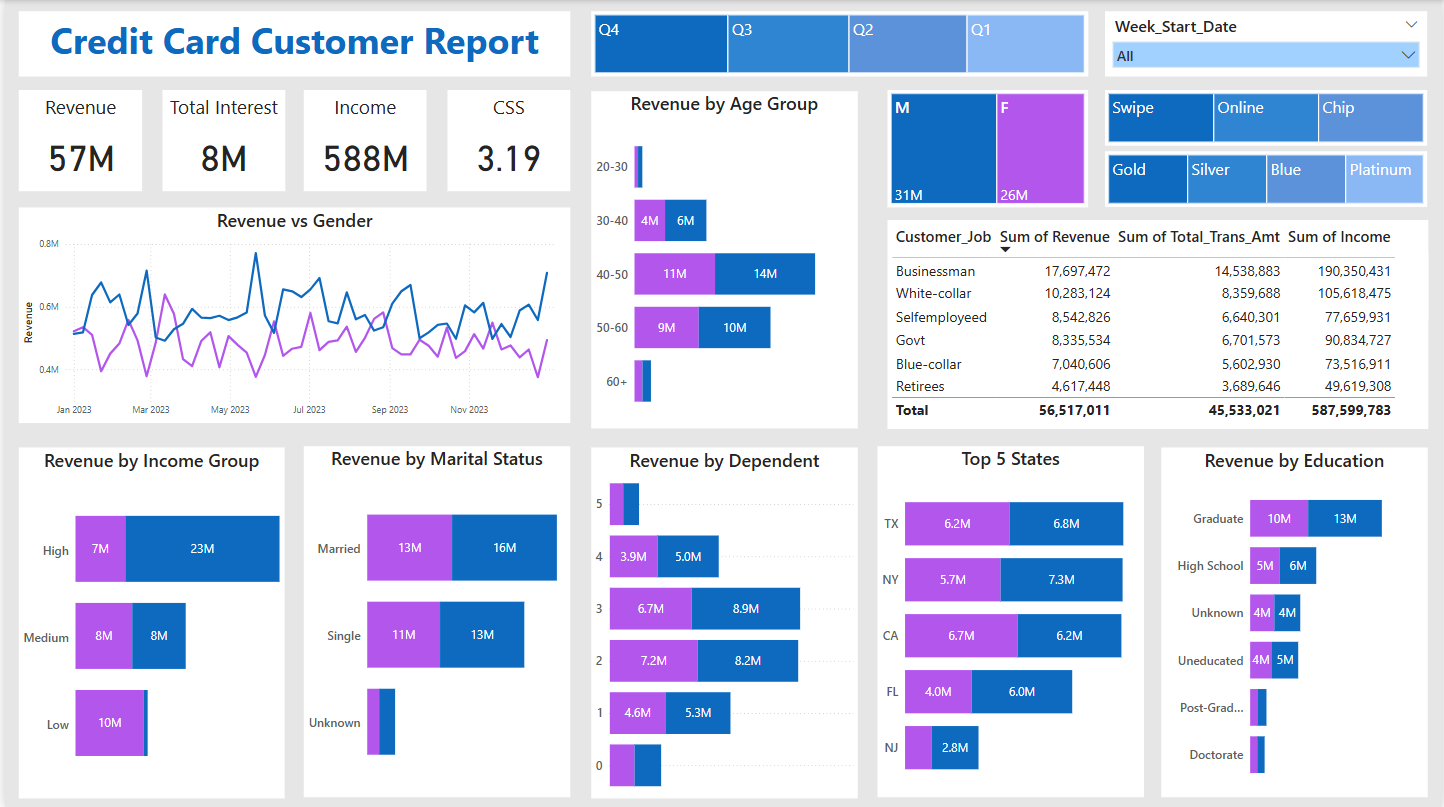

Layout of this report page (visuals, bound fields, positions):
{"tool":"powerbi","page":{"name":"CC Customer","canvas":[1920,1080],"ordinal":2},"visuals":[{"type":"textbox","box":[18.2,14.6,736.8,87.5],"z":0},{"type":"barChart","title":"Revenue by Income Group","fields":{"Y":["Sum(public cc_detail.Revenue)"],"Category":["public cust_detail.IncomeGroup"],"Series":["public cust_detail.gender"]},"box":[18.2,598.2,355,468.7],"z":1000},{"type":"cardVisual","title":"Revenue","fields":{"Data":["Sum(public cc_detail.Revenue)"]},"box":[18.2,120.4,165,135],"z":2000},{"type":"cardVisual","title":"Income","fields":{"Data":["Sum(public cust_detail.income)"]},"box":[399.4,120.4,164.1,135],"z":3000},{"type":"cardVisual","title":"Total Interest","fields":{"Data":["Sum(public cc_detail.interest_earned)"]},"box":[209.7,120.4,164.1,135],"z":4000},{"type":"cardVisual","title":"CSS","fields":{"Data":["Avg(public cust_detail.cust_satisfaction_score)"]},"box":[590.9,120.4,164.1,135],"z":5000},{"type":"slicer","fields":{"Values":["public cc_detail.week_start_date"]},"box":[1469.9,14.6,430.4,87.5],"z":6000},{"type":"treemap","fields":{"Group":["public cc_detail.qtr"],"Values":["Avg(public cc_detail.client_num)"]},"box":[782.4,14.6,663.8,87.5],"z":7000},{"type":"treemap","fields":{"Values":["Avg(public cc_detail.client_num)"],"Group":["public cc_detail.use_chip"]},"box":[1469.9,120.4,430.4,74.8],"z":8000},{"type":"treemap","fields":{"Values":["Avg(public cc_detail.client_num)"],"Group":["public cc_detail.card_category"]},"box":[1469.9,337.4,432.2,91.2],"z":9000},{"type":"lineChart","title":"Revenue vs Gender","fields":{"Y":["Sum(public cc_detail.Revenue)"],"Category":["public cc_detail.week_start_date.Variation.Date Hierarchy.Year","public cc_detail.week_start_date.Variation.Date Hierarchy.Month","public cc_detail.week_start_date.Variation.Date Hierarchy.Day"],"Series":["public cust_detail.gender"]},"box":[18.2,277.2,736.8,288.1],"z":10000},{"type":"treemap","fields":{"Group":["public cust_detail.gender"],"Values":["Sum(public cc_detail.Revenue)"]},"box":[1178.1,120.4,268.1,156.8],"z":11000},{"type":"barChart","title":"Revenue by Age Group","fields":{"Y":["Sum(public cc_detail.Revenue)"],"Category":["public cust_detail.AgeGroup"],"Series":["public cust_detail.gender"]},"box":[782.4,122.2,355.6,450.5],"z":12000},{"type":"barChart","title":"Revenue by Dependent","fields":{"Y":["Sum(public cc_detail.Revenue)"],"Category":["public cust_detail.dependent_count"],"Series":["public cust_detail.gender"]},"box":[782.4,598.2,355.6,468.7],"z":13000},{"type":"barChart","title":"Revenue by Education","fields":{"Y":["Sum(public cc_detail.Revenue)"],"Category":["public cust_detail.education_level"],"Series":["public cust_detail.gender"]},"box":[1544.7,598.2,355.6,466.9],"z":14000},{"type":"barChart","title":"Top 5 States","fields":{"Y":["Sum(public cc_detail.Revenue)"],"Category":["public cust_detail.state_cd"],"Series":["public cust_detail.gender"]},"box":[1165.4,596.4,355.6,468.7],"z":15000},{"type":"tableEx","fields":{"Values":["public cust_detail.customer_job","Sum(public cc_detail.Revenue)","Sum(public cc_detail.total_trans_amt)","Sum(public cust_detail.income)"]},"box":[1178.1,293.6,722.2,279],"z":16000},{"type":"barChart","title":"Revenue by Marital Status","fields":{"Y":["Sum(public cc_detail.Revenue)"],"Category":["public cust_detail.marital_status"],"Series":["public cust_detail.gender"]},"box":[399.4,596.4,355.6,468.7],"z":17000},{"type":"treemap","fields":{"Values":["Avg(public cc_detail.client_num)"],"Group":["public cc_detail.card_category"]},"box":[1469.9,202.4,430.4,74.8],"z":18000}]}

Visuals, with their boxes in screenshot pixels (x1, y1, x2, y2), scaled from the page's 1920x1080 canvas onto the 1444x807 screenshot:
textbox: {"x1": 14, "y1": 11, "x2": 568, "y2": 76}
"Revenue by Income Group" barChart: {"x1": 14, "y1": 447, "x2": 281, "y2": 797}
"Revenue" cardVisual: {"x1": 14, "y1": 90, "x2": 138, "y2": 191}
"Income" cardVisual: {"x1": 300, "y1": 90, "x2": 424, "y2": 191}
"Total Interest" cardVisual: {"x1": 158, "y1": 90, "x2": 281, "y2": 191}
"CSS" cardVisual: {"x1": 444, "y1": 90, "x2": 568, "y2": 191}
slicer - public cc_detail.week_start_date: {"x1": 1105, "y1": 11, "x2": 1429, "y2": 76}
treemap - public cc_detail.qtr x Avg(public cc_detail.client_num): {"x1": 588, "y1": 11, "x2": 1088, "y2": 76}
treemap - Avg(public cc_detail.client_num) x public cc_detail.use_chip: {"x1": 1105, "y1": 90, "x2": 1429, "y2": 146}
treemap - Avg(public cc_detail.client_num) x public cc_detail.card_category: {"x1": 1105, "y1": 252, "x2": 1431, "y2": 320}
"Revenue vs Gender" lineChart: {"x1": 14, "y1": 207, "x2": 568, "y2": 422}
treemap - public cust_detail.gender x Sum(public cc_detail.Revenue): {"x1": 886, "y1": 90, "x2": 1088, "y2": 207}
"Revenue by Age Group" barChart: {"x1": 588, "y1": 91, "x2": 856, "y2": 428}
"Revenue by Dependent" barChart: {"x1": 588, "y1": 447, "x2": 856, "y2": 797}
"Revenue by Education" barChart: {"x1": 1162, "y1": 447, "x2": 1429, "y2": 796}
"Top 5 States" barChart: {"x1": 876, "y1": 446, "x2": 1144, "y2": 796}
tableEx - public cust_detail.customer_job x Sum(public cc_detail.Revenue): {"x1": 886, "y1": 219, "x2": 1429, "y2": 428}
"Revenue by Marital Status" barChart: {"x1": 300, "y1": 446, "x2": 568, "y2": 796}
treemap - Avg(public cc_detail.client_num) x public cc_detail.card_category: {"x1": 1105, "y1": 151, "x2": 1429, "y2": 207}
